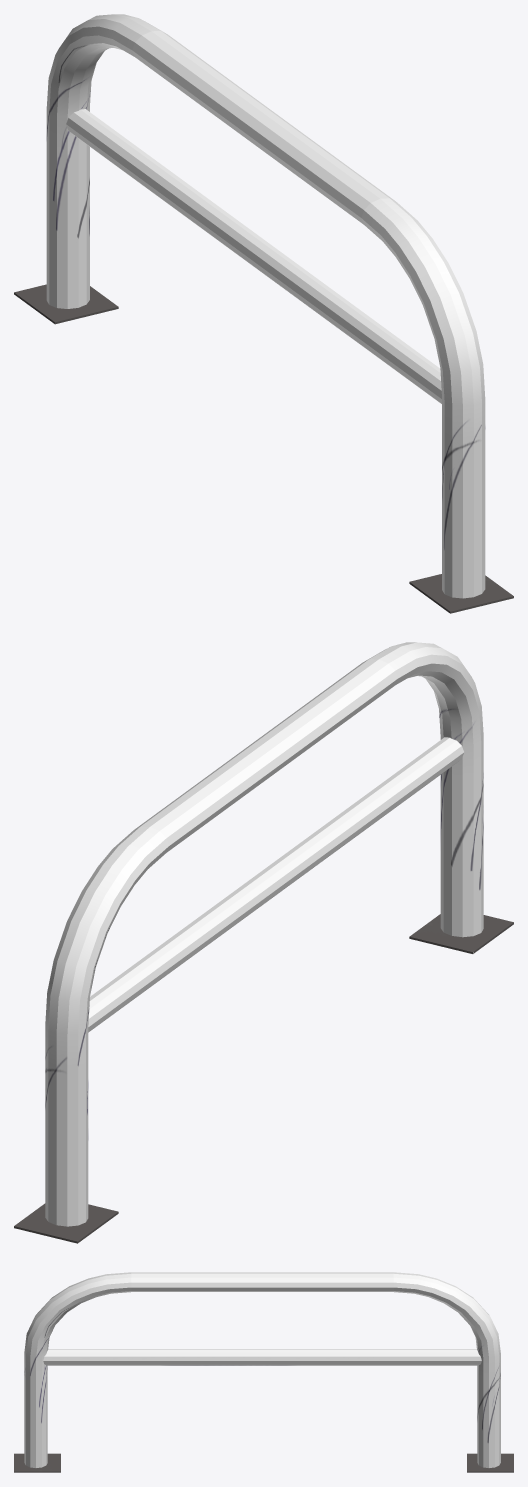
Rendered from Big BAr.fbx.
3 views of the same model, one above another, from view 1: azimuth 30°, elevation 25°; view 2: azimuth 150°, elevation 25°; view 3: azimuth 270°, elevation 25° (orthographic). The views are drawn at different scales.
Visible parts, largest first — view 1: pCube3; view 2: pCube3; view 3: pCube3.
Part boxes in pixels (x1,y1,x2,y2): pCube3: [14, 14, 513, 613]; pCube3: [14, 642, 513, 1243]; pCube3: [14, 1272, 513, 1472].
Size of the model in its own units: 3.2 by 16.03 by 37.93.
